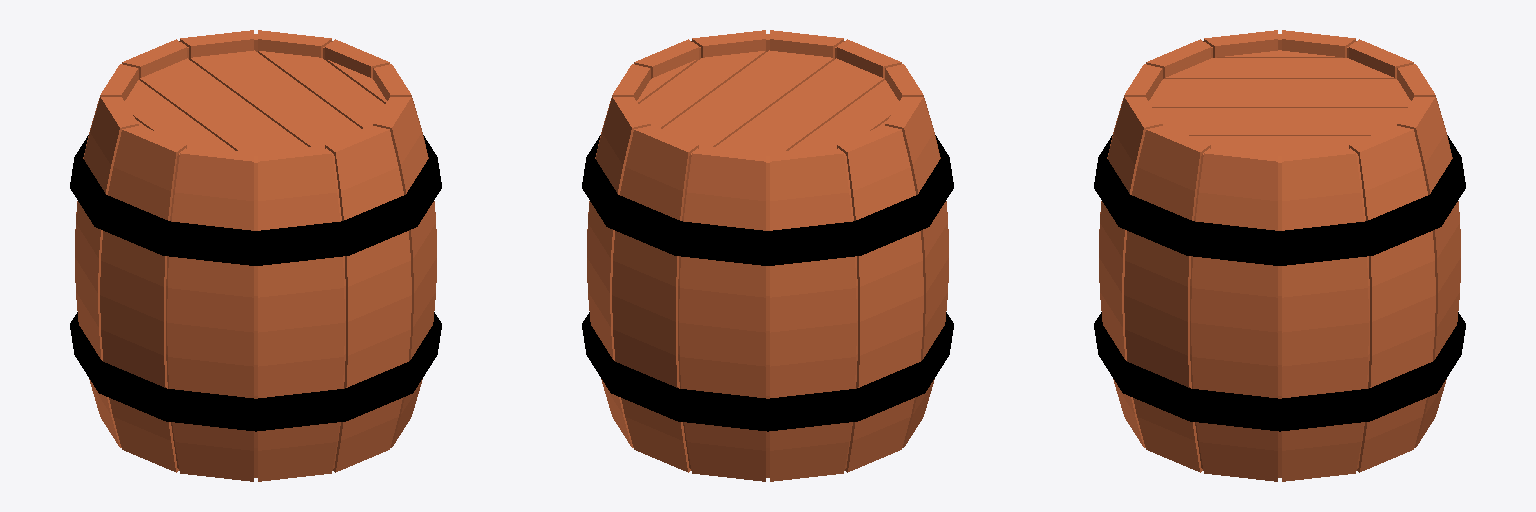
The picture shows the model from 3 angles: view 1: azimuth 30°, elevation 25°; view 2: azimuth 150°, elevation 25°; view 3: azimuth 270°, elevation 25°; orthographic projection.
Parts seen in each view (by area): view 1: 円柱.001; view 2: 円柱.001; view 3: 円柱.001.
Part boxes in pixels (x1,y1,x2,y2): 円柱.001: (70, 30, 441, 481); 円柱.001: (582, 30, 953, 481); 円柱.001: (1094, 30, 1465, 481).
Size of the model in its own units: 2.07 by 1.96 by 2.07.
1 materials, 1 textured.